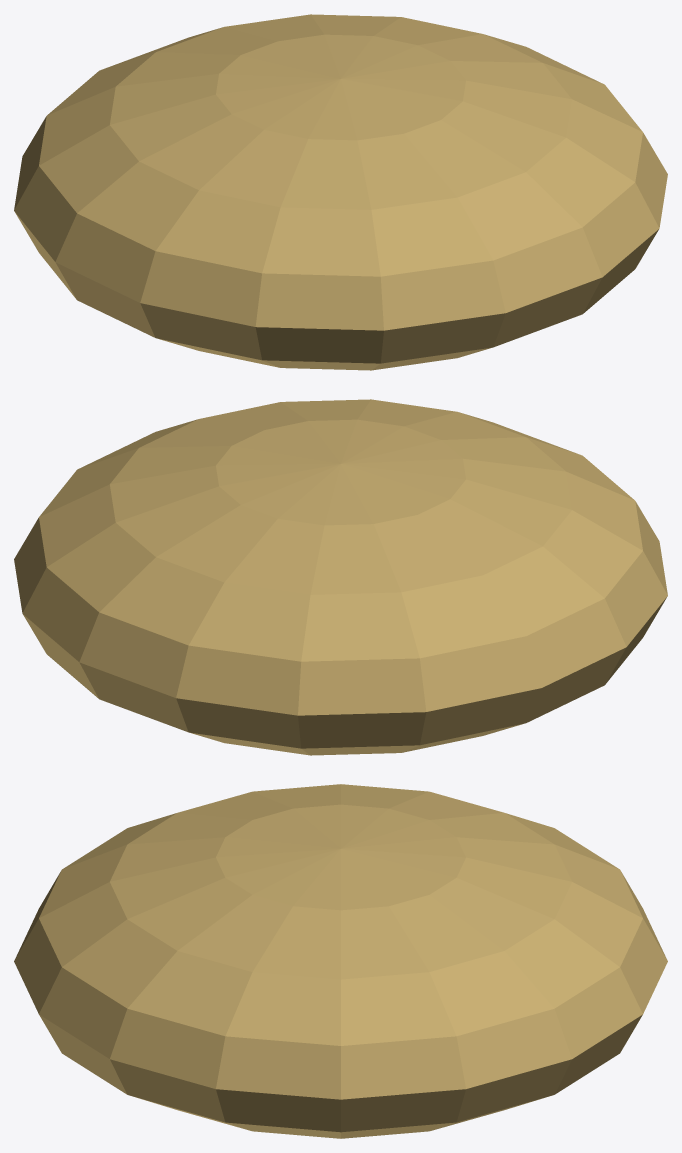
File: resource_pile.dae
3 renders of one model, top to bottom at view 1: azimuth 30°, elevation 25°; view 2: azimuth 150°, elevation 25°; view 3: azimuth 270°, elevation 25°, orthographic.
Parts seen in each view (by area): view 1: Sphere; view 2: Sphere; view 3: Sphere.
Boxes of the visible parts, <box> form: Sphere: <box>14,14,667,370</box>; Sphere: <box>14,399,667,755</box>; Sphere: <box>14,784,667,1138</box>.
Bounding box in the file's own units: 260 × 260 × 98.8.
